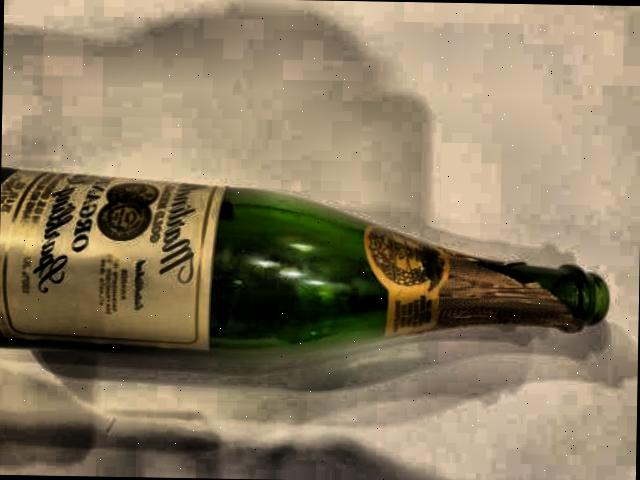Bottles: (0, 148, 634, 403)
